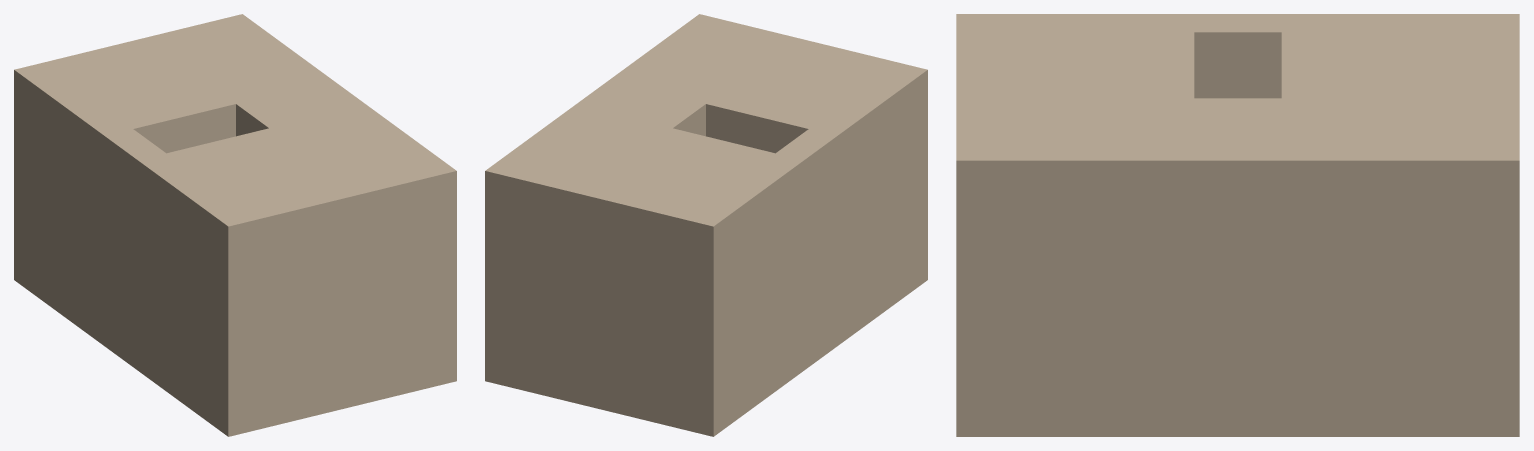
The model's file is massing.glb.
3 views of the same model, side by side, from view 1: azimuth 30°, elevation 25°; view 2: azimuth 150°, elevation 25°; view 3: azimuth 270°, elevation 25° (orthographic). The views are drawn at different scales.
Parts seen in each view (by area): view 1: building/exterior; view 2: building/exterior; view 3: building/exterior.
Boxes of the visible parts, x1=… form: building/exterior: x1=14, y1=14, x2=456, y2=436; building/exterior: x1=485, y1=14, x2=927, y2=436; building/exterior: x1=956, y1=14, x2=1519, y2=436.
Bounding box in the file's own units: 10 × 8.8 × 16.25.
